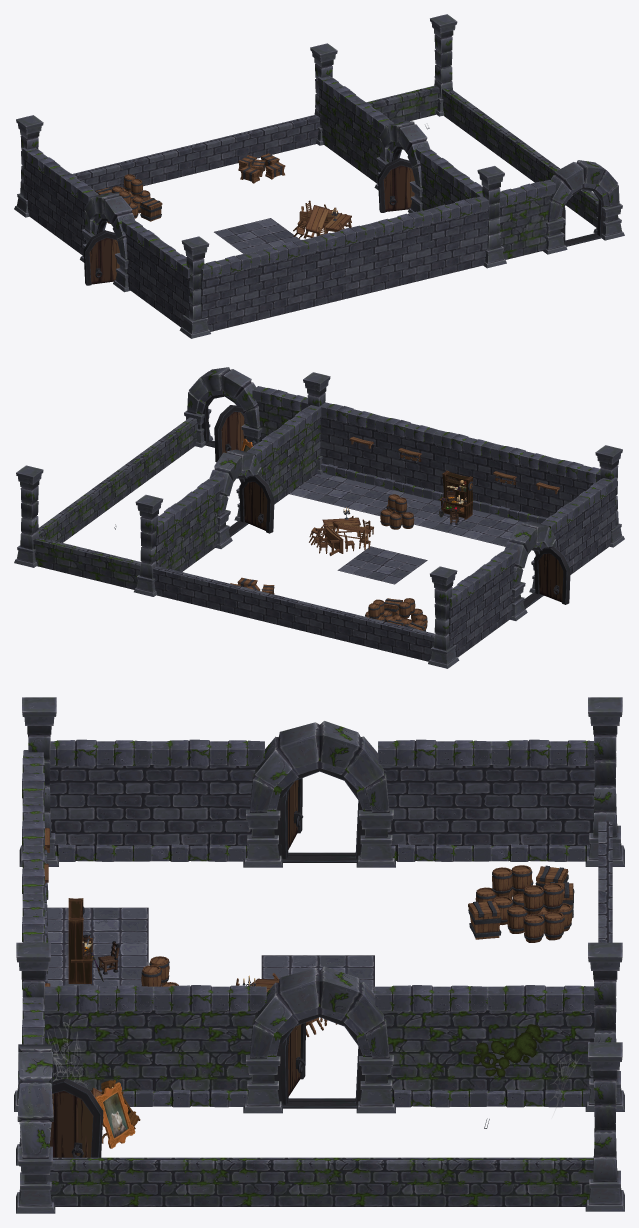
File: StorageRoom.gltf
3 views of the same model, one above another, from view 1: azimuth 30°, elevation 25°; view 2: azimuth 150°, elevation 25°; view 3: azimuth 270°, elevation 25° (orthographic). The views are drawn at different scales.
Visible parts, largest first — view 1: StorageRoom1; view 2: StorageRoom1; view 3: StorageRoom1.
Boxes of the visible parts, left/top/right/bottom form: StorageRoom1: left=14, top=14, right=624, bottom=338; StorageRoom1: left=14, top=367, right=624, bottom=668; StorageRoom1: left=14, top=697, right=624, bottom=1213.
Bounding box in the file's own units: 32.04 × 6.34 × 21.6.
Materials: 21 (21 with a texture image).
